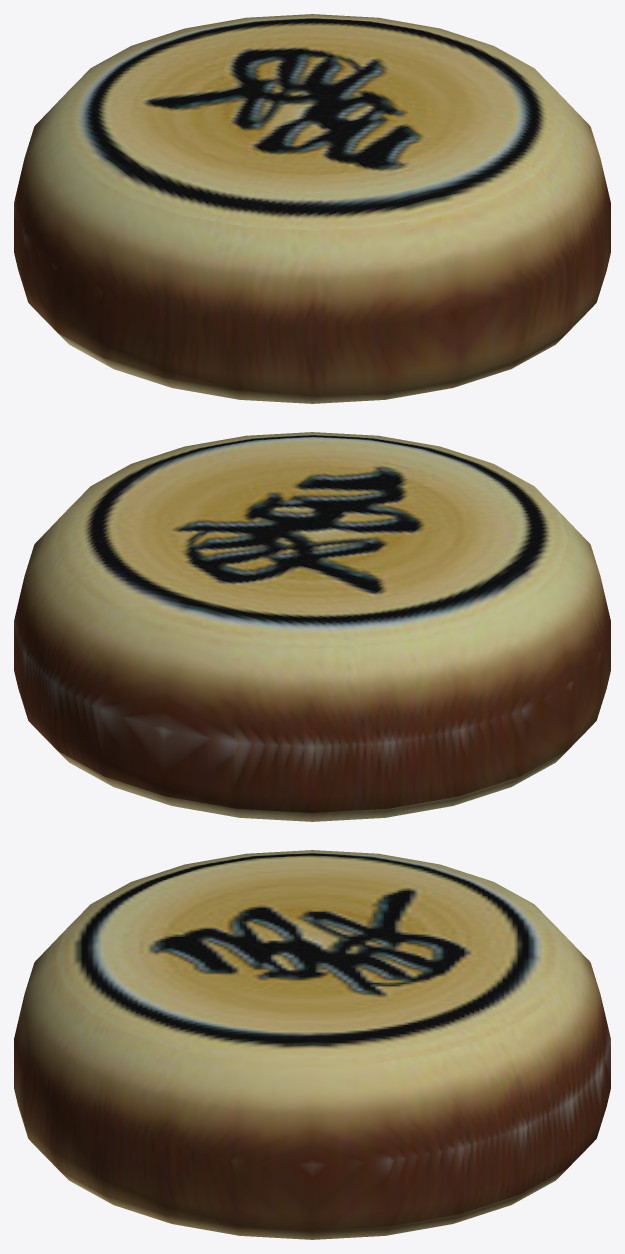
Rendered from Black_02_elephant_left.gltf.
3 renders of one model, top to bottom at view 1: azimuth 30°, elevation 25°; view 2: azimuth 150°, elevation 25°; view 3: azimuth 270°, elevation 25°, orthographic.
Parts seen in each view (by area): view 1: Black_02_elephant_left; view 2: Black_02_elephant_left; view 3: Black_02_elephant_left.
Boxes of the visible parts, x1=… form: Black_02_elephant_left: x1=14, y1=14, x2=610, y2=403; Black_02_elephant_left: x1=14, y1=432, x2=610, y2=821; Black_02_elephant_left: x1=14, y1=850, x2=610, y2=1239.
Size of the model in its own units: 0.0468 by 0.0155 by 0.0468.
1 material, 1 textured.
